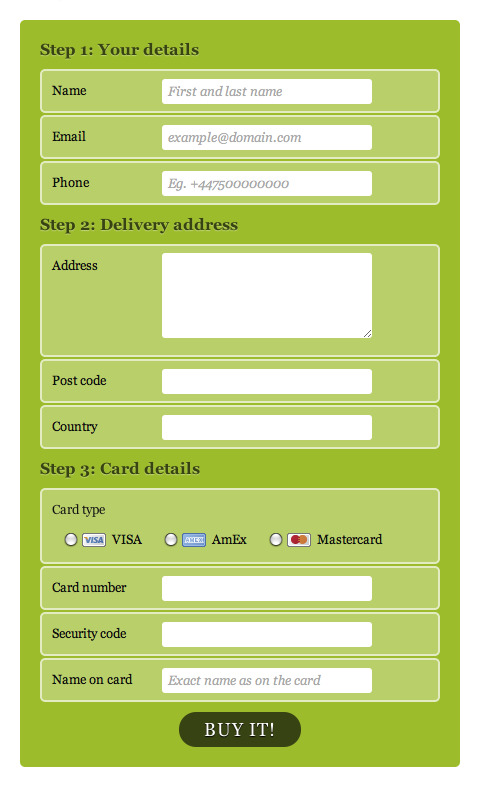button: (174, 707, 304, 750)
field: (156, 250, 375, 342), (157, 572, 377, 605), (158, 411, 374, 444), (157, 365, 375, 397), (154, 619, 378, 650), (159, 75, 373, 107), (157, 122, 376, 153), (158, 169, 380, 199), (156, 666, 375, 696)
radio: (62, 531, 82, 548), (268, 529, 282, 551), (164, 529, 179, 548)
